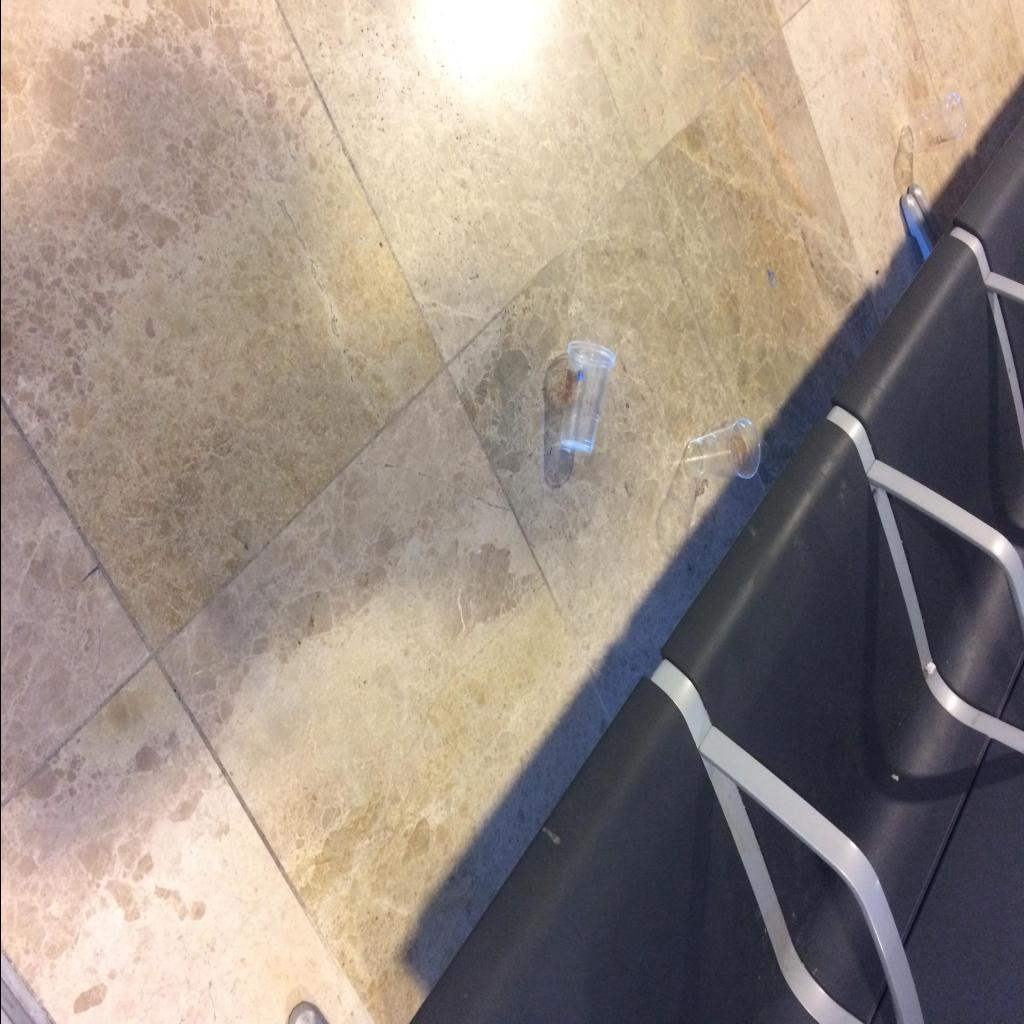Disposable plastic cup: (559, 341, 615, 455), (684, 418, 760, 480)
